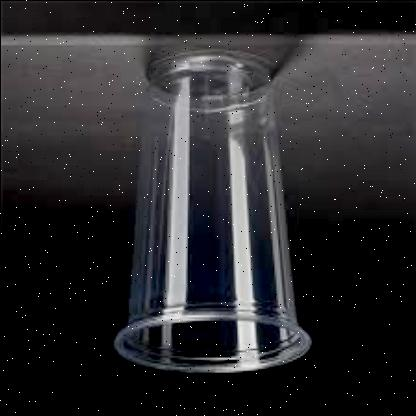Others: (114, 48, 310, 372)
